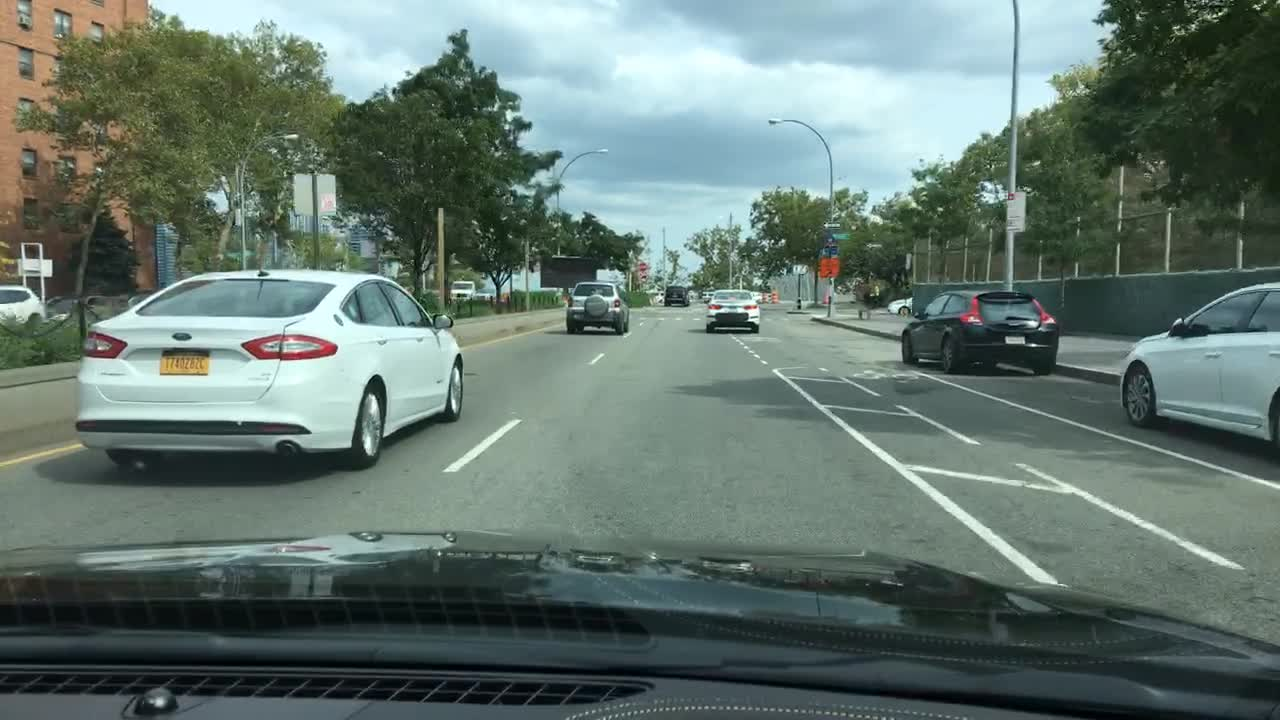car: (72, 269, 467, 471), (1114, 279, 1277, 458), (900, 289, 1059, 377), (563, 279, 629, 336), (0, 280, 49, 331), (704, 289, 759, 334), (661, 285, 691, 308), (885, 293, 915, 313), (449, 280, 477, 301), (748, 289, 762, 303), (701, 289, 714, 303)
traffic sign: (291, 171, 337, 219), (1003, 190, 1027, 231), (818, 243, 842, 278), (791, 262, 809, 274), (822, 219, 842, 229), (636, 261, 648, 273)
